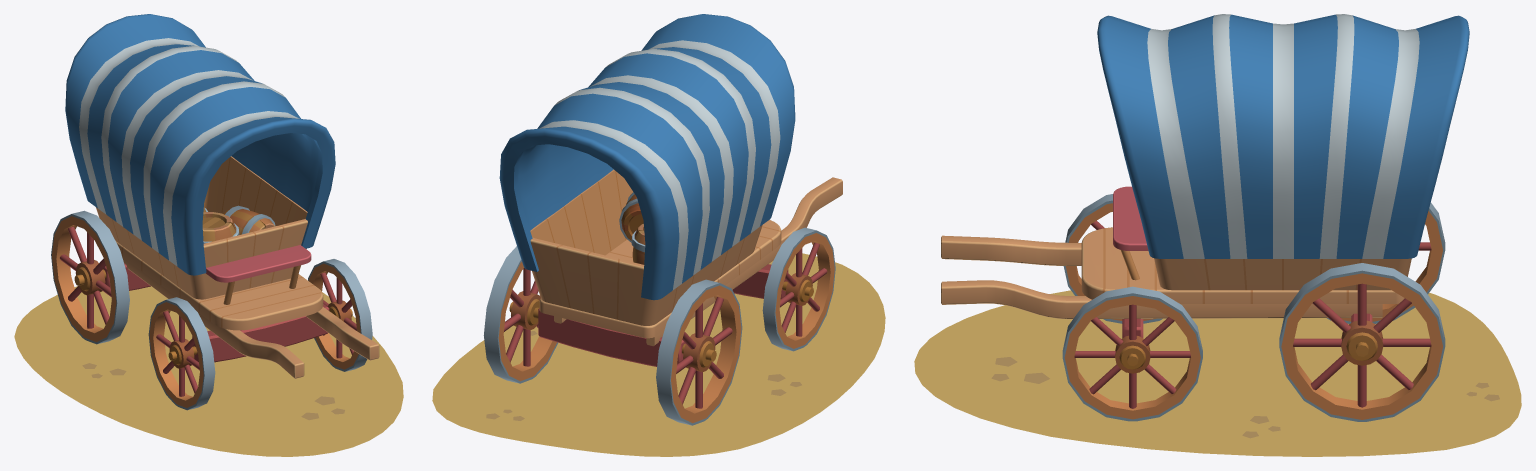
File: Wagon_01_lvl.fbx
The picture shows the model from 3 angles, left to right: view 1: azimuth 30°, elevation 25°; view 2: azimuth 150°, elevation 25°; view 3: azimuth 270°, elevation 25°; orthographic projection. The views are drawn at different scales.
Parts seen in each view (by area): view 1: Cube.005; view 2: Cube.005; view 3: Cube.005.
Boxes of the visible parts, x1,y1,x2,y2 form: Cube.005: (14,14,403,456); Cube.005: (432,14,885,456); Cube.005: (914,14,1521,456).
Size of the model in its own units: 311 by 273 by 437.
